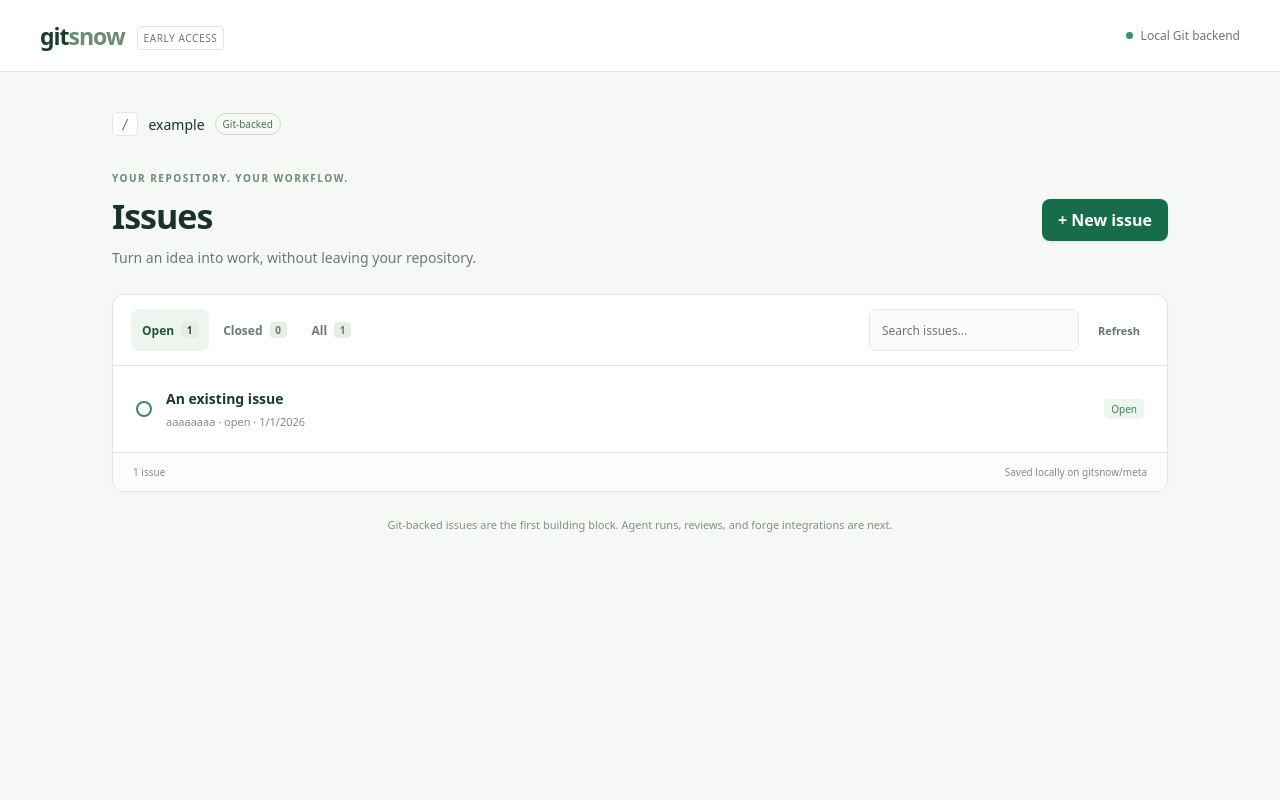
Scenario: issue workflow › uses the reviewed revision when deleting
What coordinates should you click on to do the following:
click the button "An existing issue"
I would click on:
 (225, 399)
Its box is [113,366,1167,452].
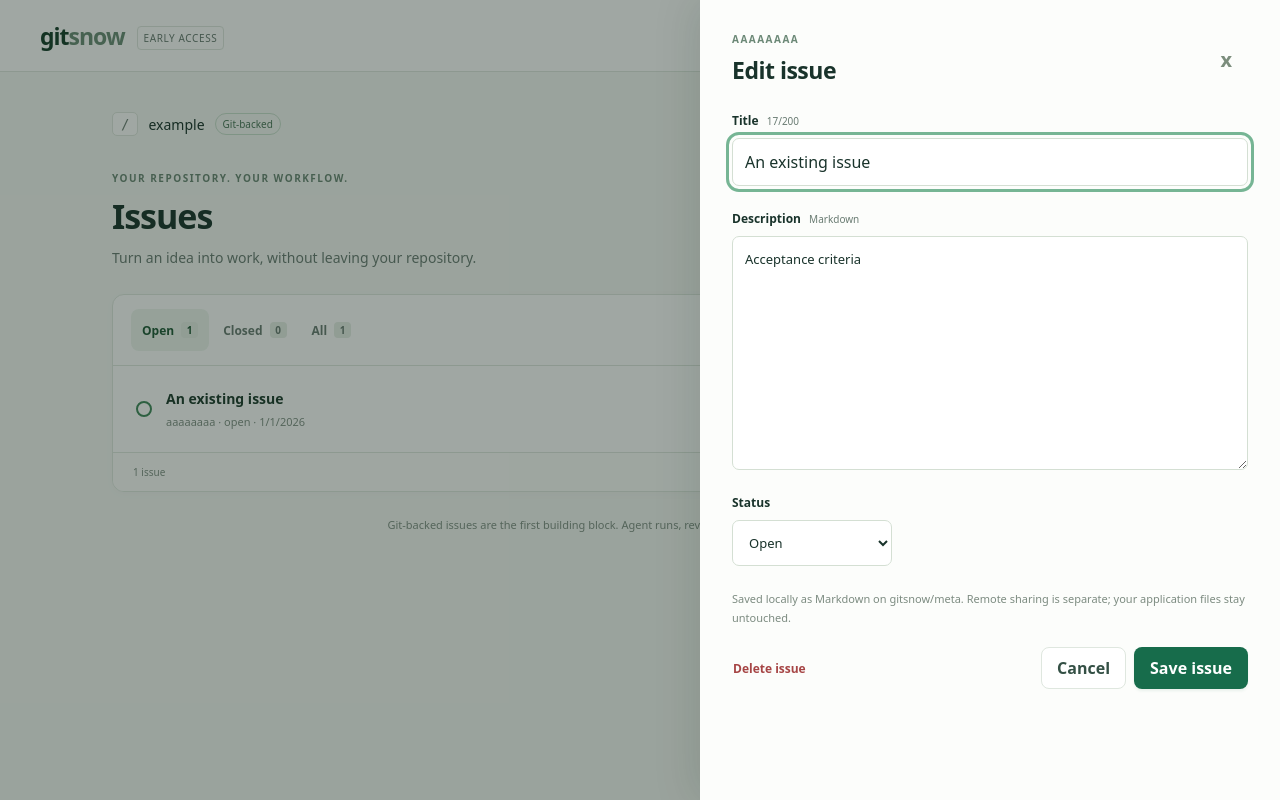
What coordinates should you click on to do the following:
click the button "Delete issue"
I would click on:
 (777, 668)
Its box is [732,647,822,689].
(page scrolled)
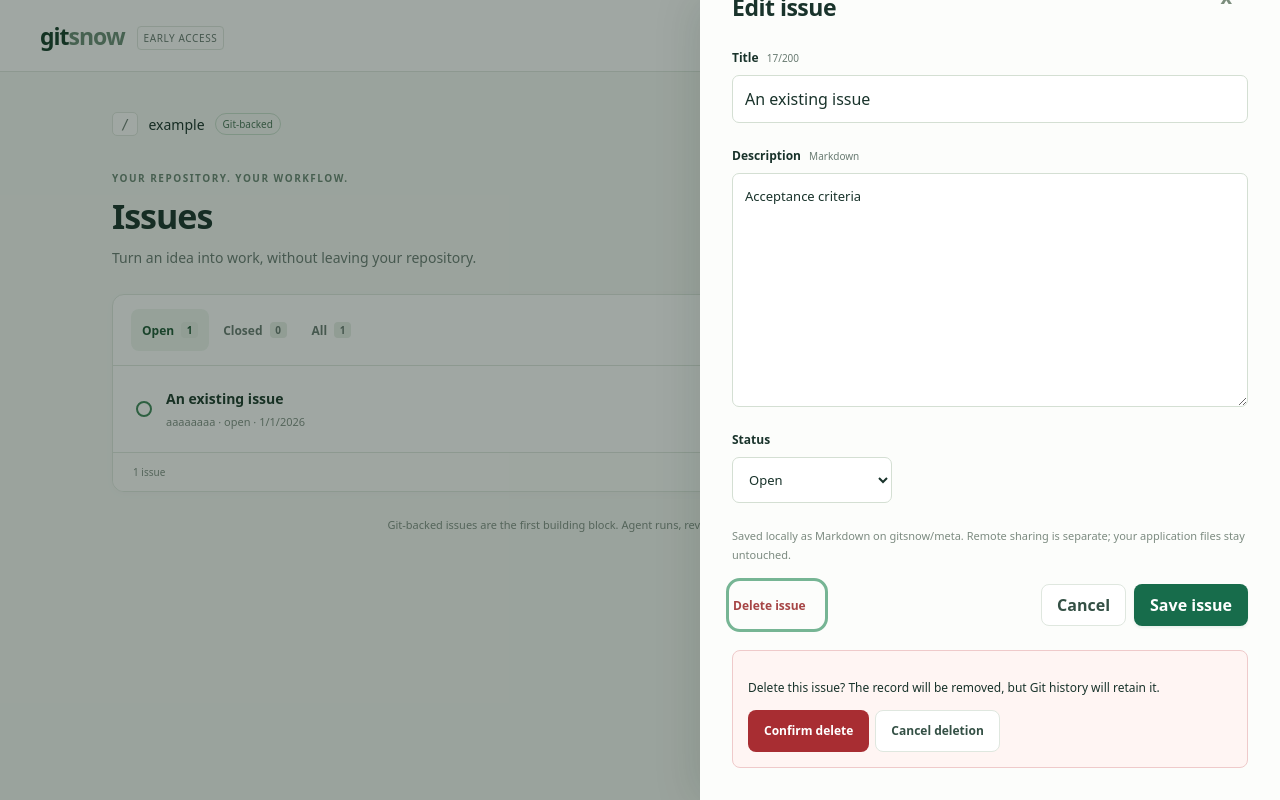
What coordinates should you click on to do the following:
click the button "Confirm delete"
I would click on:
 (809, 730)
Its box is [748,710,869,752].
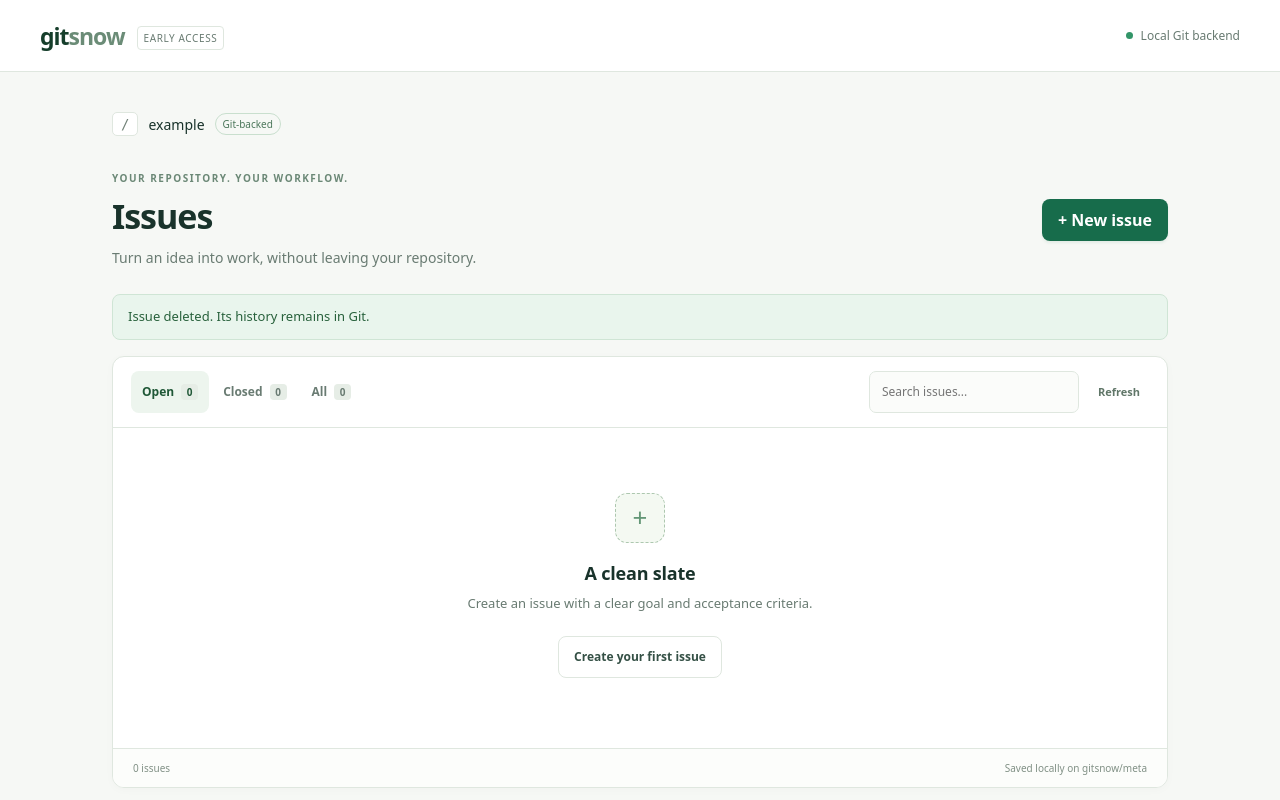
Check: the text "Issue deleted. Its history remains in Git." is shown, box [112,294,1168,340]
Check: the button "An existing issue" is gone
